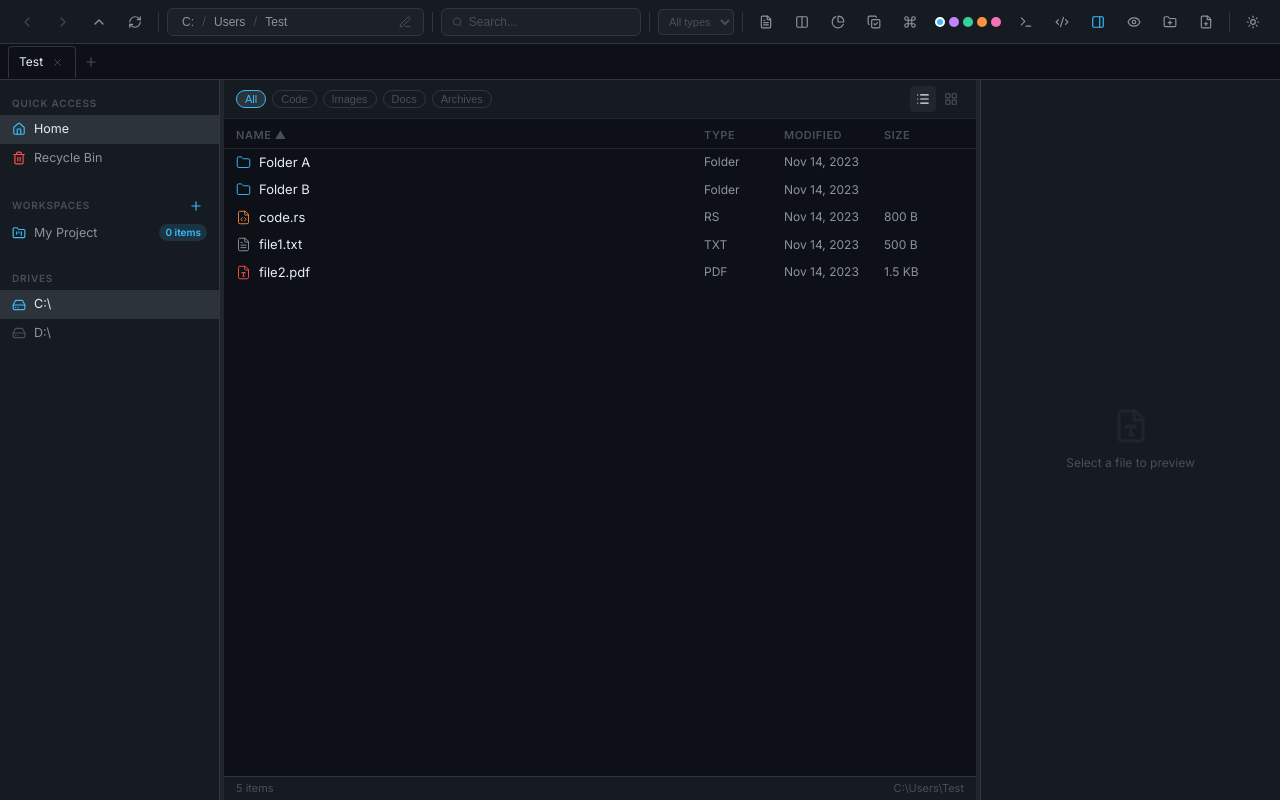
it: App Component Full Integration Suite › opens New File modal when clicking FilePlus button
Expected: the text "file1.txt" is shown, [259,235,302,254]
Click the button titled "New File".
click(1206, 22)  # box [1191,6,1221,36]
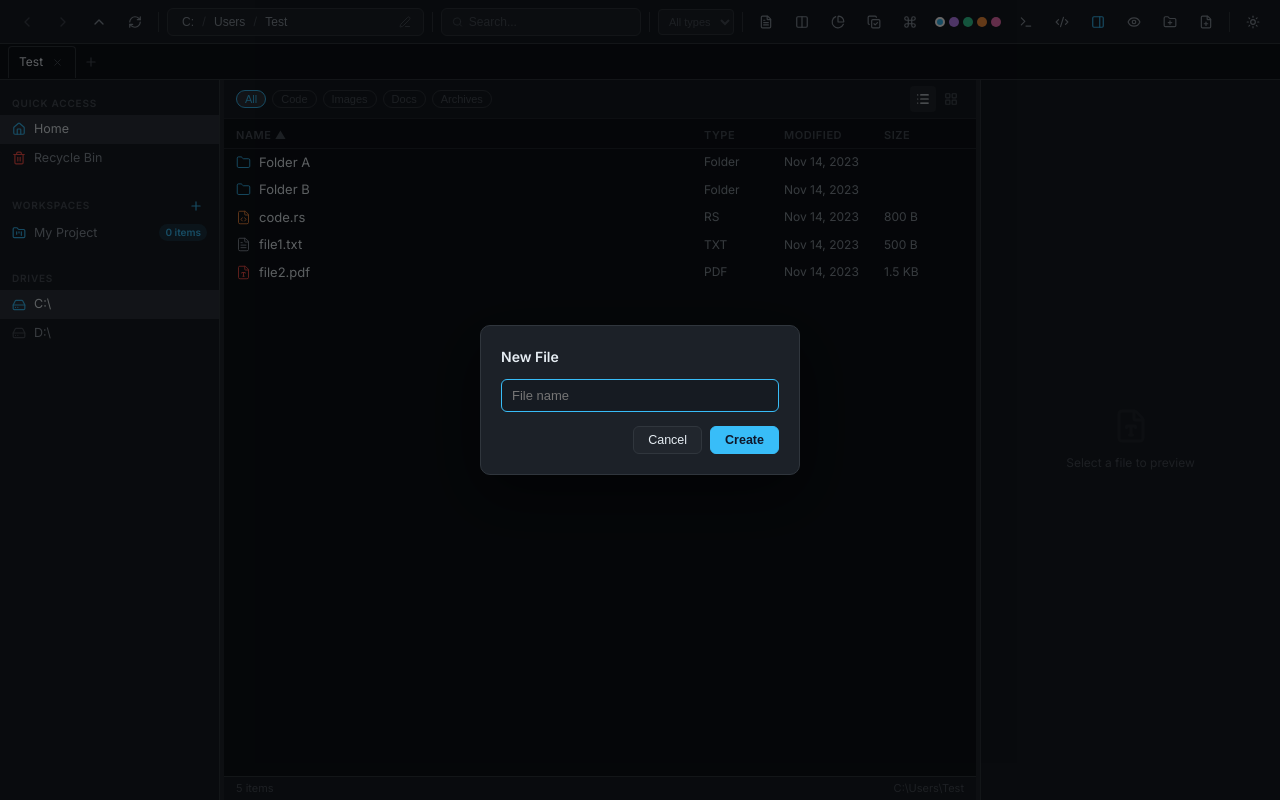
Now the text "New File" is shown, box [501,348,559,365]
